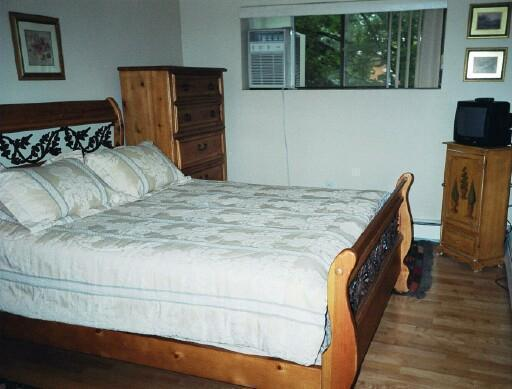Armario: (169, 60, 227, 178)
Cama: (6, 125, 420, 386)
